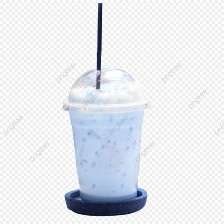drinking_straw: (92, 1, 109, 91)
glass: (59, 63, 148, 201)
